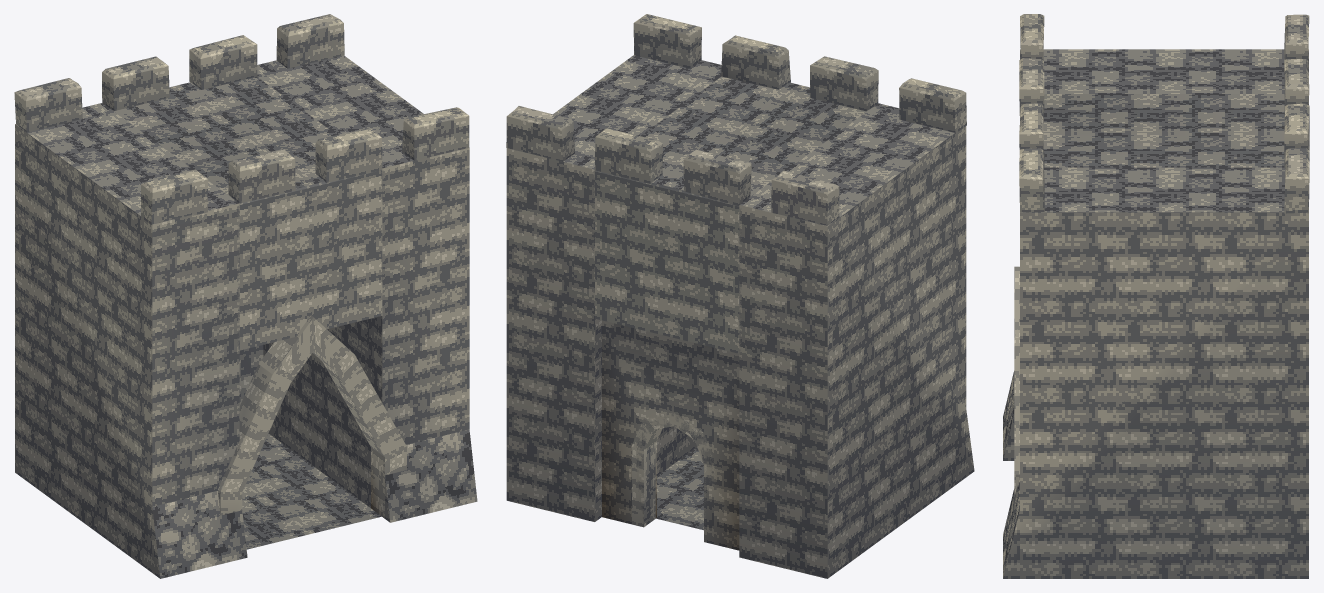
The model's file is cst.gatehouse__crenellated.glb.
3 renders of one model, left to right at view 1: azimuth 30°, elevation 25°; view 2: azimuth 150°, elevation 25°; view 3: azimuth 270°, elevation 25°, orthographic. The views are drawn at different scales.
Parts seen in each view (by area): view 1: kit_block, kit_top, kit_detail, kit_shell_passage_floor; view 2: kit_block, kit_top, kit_shell_passage_floor, kit_detail; view 3: kit_block, kit_top, kit_detail.
Part boxes in pixels (x1=…): kit_block: x1=15, y1=55, x2=477, y2=578; kit_top: x1=14, y1=14, x2=469, y2=224; kit_detail: x1=217, y1=315, x2=406, y2=518; kit_shell_passage_floor: x1=242, y1=433, x2=381, y2=549; kit_block: x1=506, y1=55, x2=974, y2=578; kit_top: x1=506, y1=14, x2=966, y2=225; kit_shell_passage_floor: x1=656, y1=447, x2=703, y2=530; kit_detail: x1=632, y1=413, x2=715, y2=541; kit_block: x1=1003, y1=49, x2=1308, y2=578; kit_top: x1=1019, y1=14, x2=1309, y2=213; kit_detail: x1=1014, y1=266, x2=1019, y2=497.
Size of the model in its own units: 8.04 by 9.25 by 6.37.
5 materials, 5 textured.
